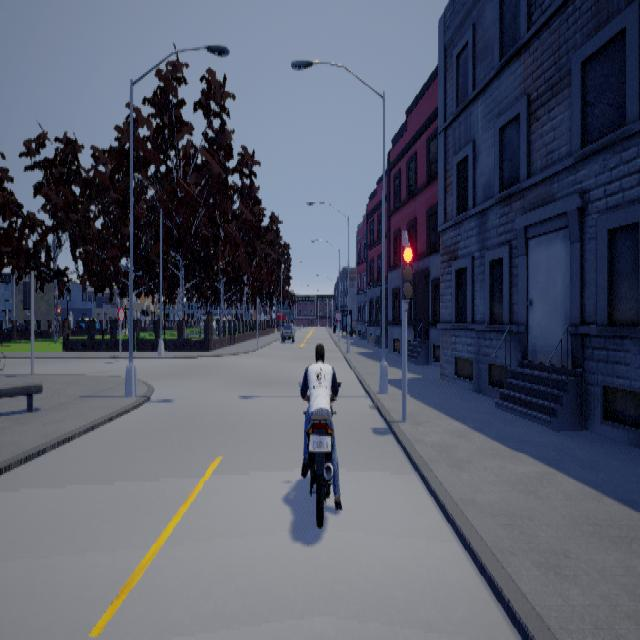motobike: (297, 337, 342, 537)
red_light: (400, 232, 412, 310)
vehicle: (279, 317, 293, 342)
